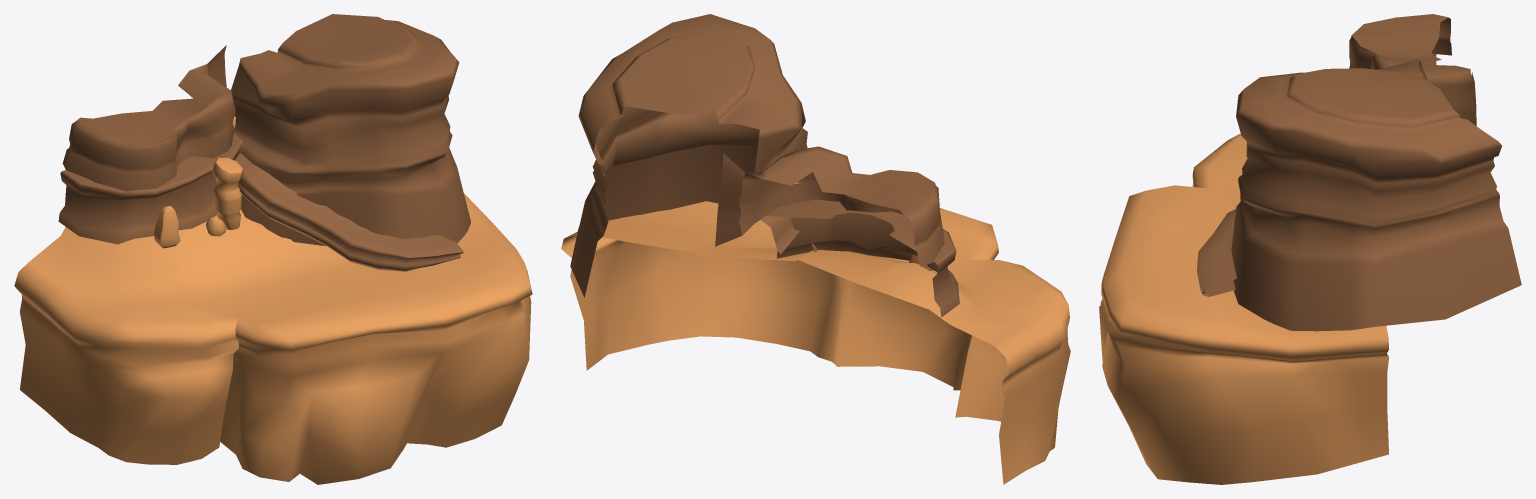
File: MidGroundBase.fbx
3 views of the same model, side by side, from view 1: azimuth 30°, elevation 25°; view 2: azimuth 150°, elevation 25°; view 3: azimuth 270°, elevation 25° (orthographic). The views are drawn at different scales.
Visible parts, largest first — view 1: MGBase, RghtRockCollumn, RockTier_02, RockTier_01, Slide, RockPillar, TallBoulder; view 2: MGBase, RghtRockCollumn, RockTier_02, RockTier_01; view 3: RghtRockCollumn, MGBase, RockTier_02, Slide.
Part boxes in pixels (x1,y1,x2,y2): MGBase: [14, 193, 532, 484]; RghtRockCollumn: [231, 14, 470, 246]; RockTier_02: [62, 45, 235, 191]; RockTier_01: [58, 134, 243, 244]; Slide: [235, 153, 463, 271]; RockPillar: [212, 158, 243, 229]; TallBoulder: [154, 205, 180, 248]; MGBase: [561, 201, 1070, 484]; RghtRockCollumn: [570, 14, 817, 297]; RockTier_02: [715, 146, 944, 266]; RockTier_01: [766, 199, 959, 317]; RghtRockCollumn: [1231, 59, 1521, 331]; MGBase: [1099, 133, 1388, 484]; RockTier_02: [1349, 14, 1476, 125]; Slide: [1197, 209, 1236, 296].
Bounding box in the file's own units: 251 × 193 × 197.
